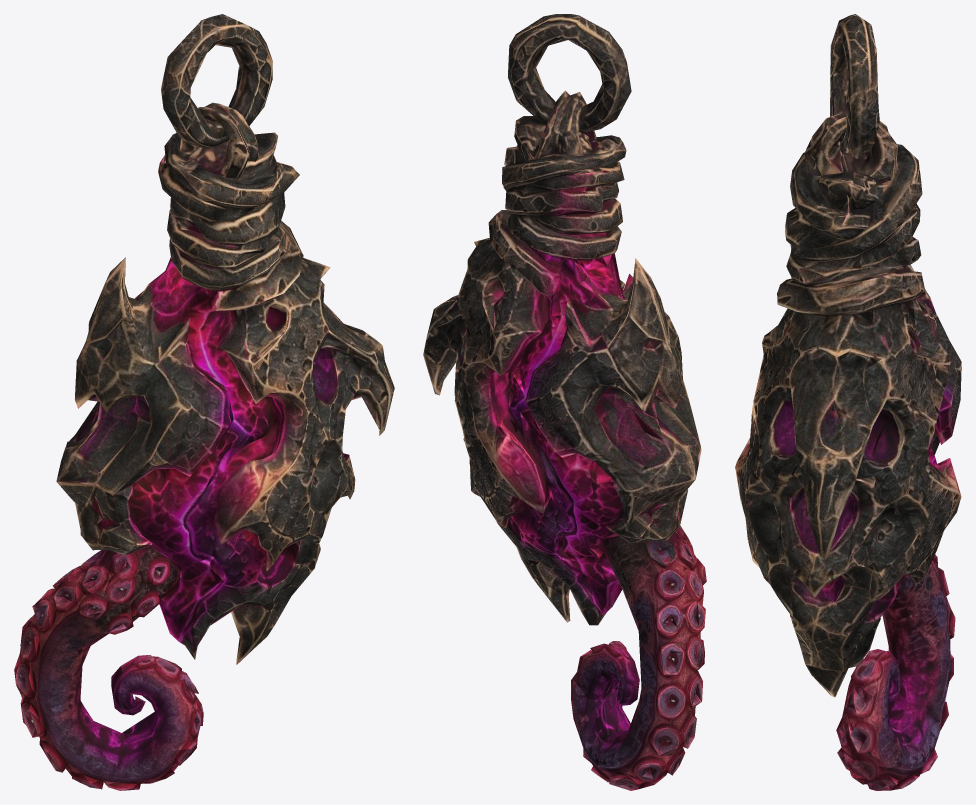
File: set-chaos-charm.glb
The picture shows the model from 3 angles, left to right: view 1: azimuth 30°, elevation 25°; view 2: azimuth 150°, elevation 25°; view 3: azimuth 270°, elevation 25°; orthographic projection. The views are drawn at different scales.
Parts seen in each view (by area): view 1: Motion_Control; view 2: Motion_Control; view 3: Motion_Control.
Boxes of the visible parts, x1=… form: Motion_Control: x1=14, y1=14, x2=394, y2=790; Motion_Control: x1=423, y1=14, x2=706, y2=790; Motion_Control: x1=735, y1=14, x2=961, y2=790.
Size of the model in its own units: 0.8896 by 2 by 0.5119.
1 material, 1 textured.
